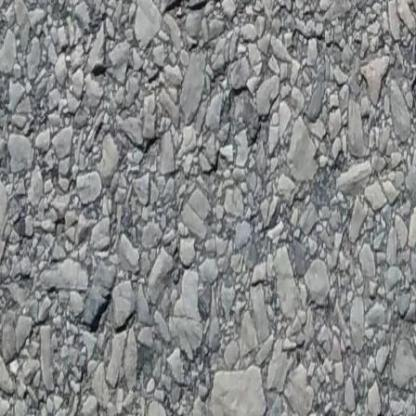Cracks: (134, 0, 264, 23)
